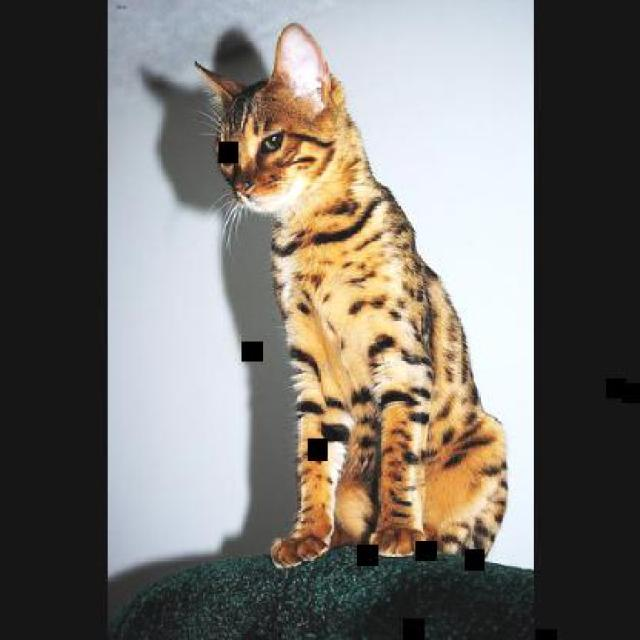unauthorized: (192, 20, 510, 569)
